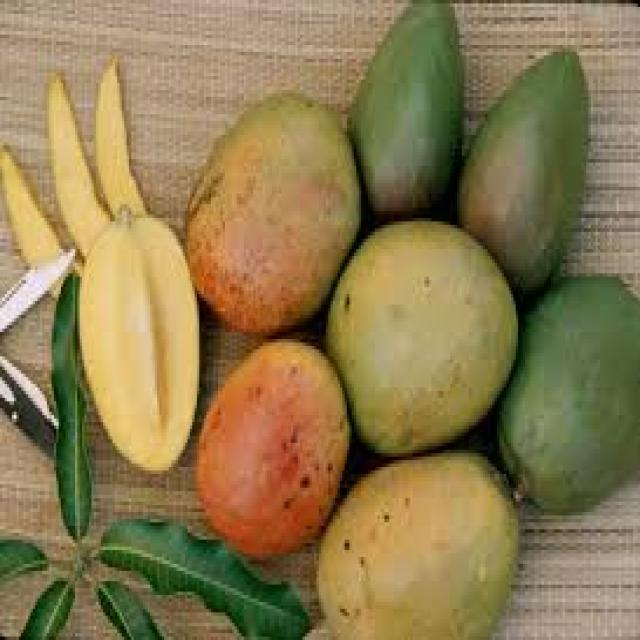Mango: (329, 220, 521, 451), (312, 446, 527, 640), (185, 90, 357, 331), (189, 337, 347, 559), (459, 50, 594, 293), (499, 273, 638, 509), (80, 206, 201, 472), (346, 0, 466, 221)
